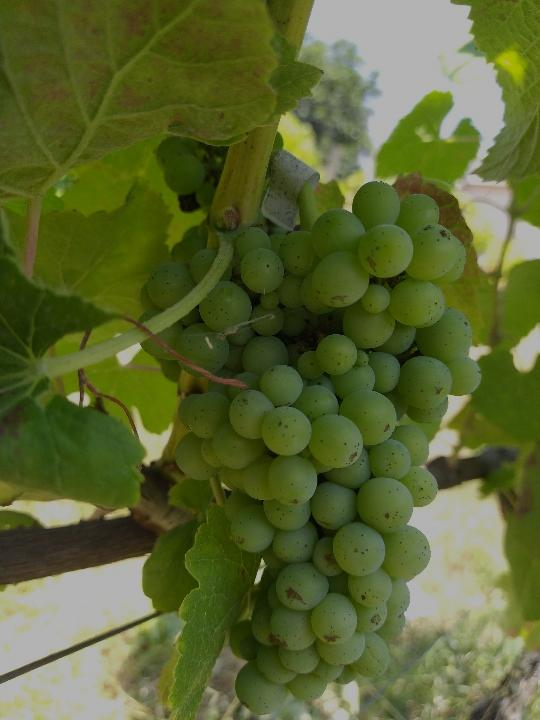grape: (132, 179, 485, 716)
